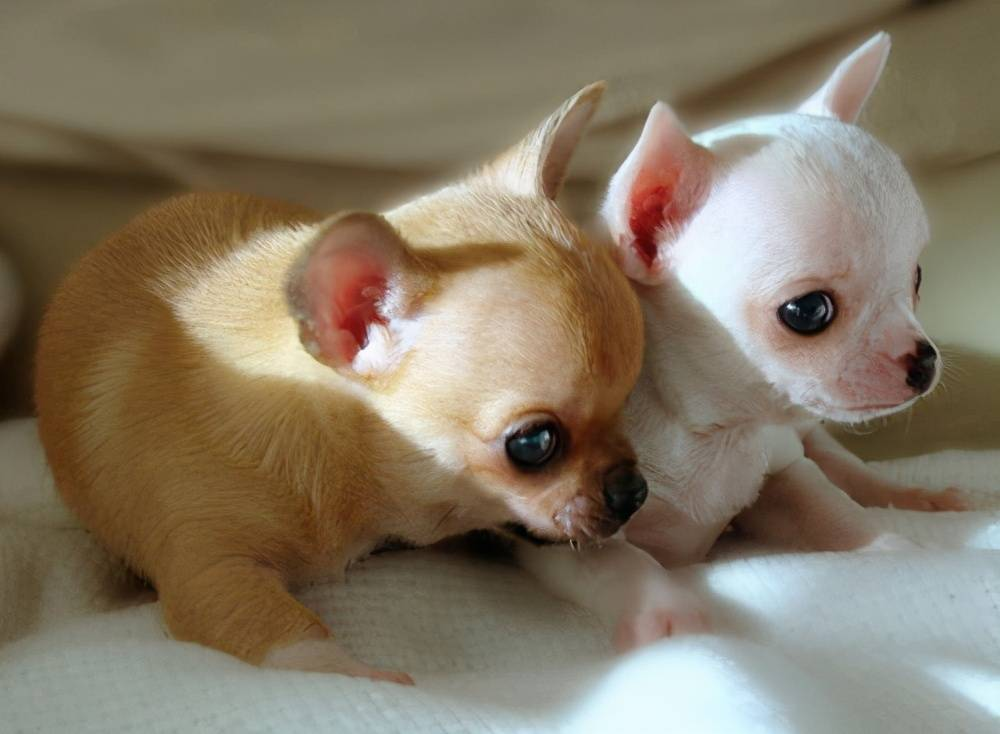dog: (21, 96, 651, 667), (609, 26, 947, 659)
